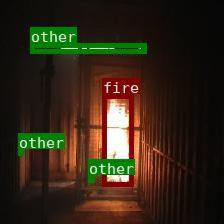fire: (102, 93, 132, 186)
